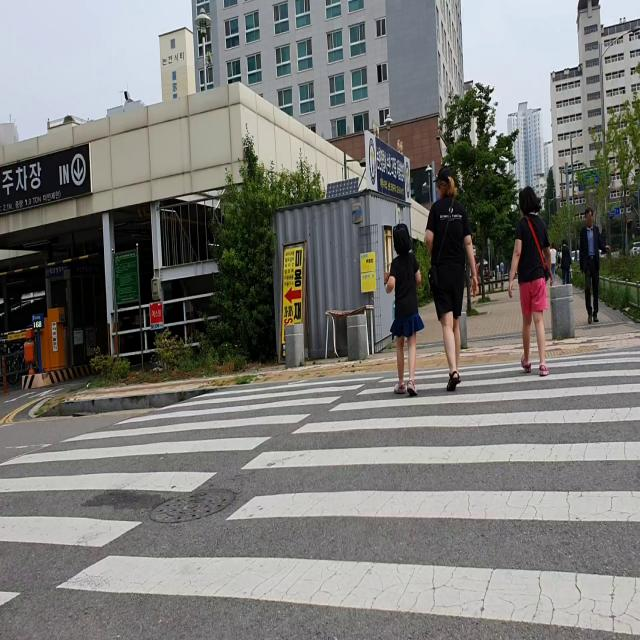횡단보도: (2, 340, 638, 637)
